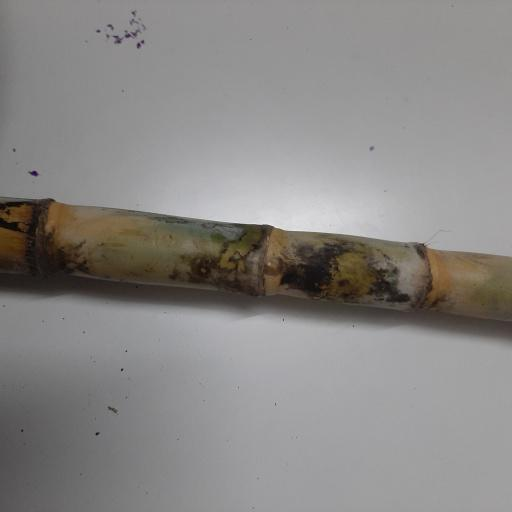Bud: (263, 256, 283, 276)
